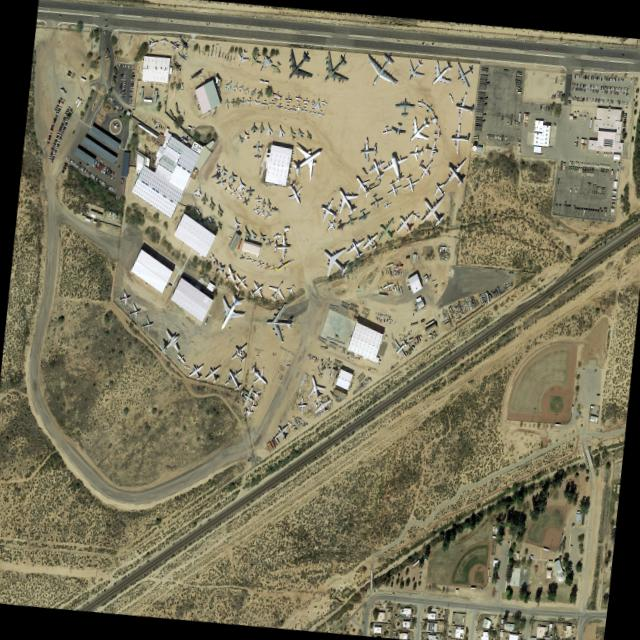large-vehicle: (447, 91, 452, 102), (179, 136, 186, 142), (508, 112, 511, 125), (59, 87, 65, 93), (75, 99, 80, 106), (319, 344, 327, 348), (74, 97, 78, 103), (79, 76, 84, 80), (66, 69, 70, 73), (65, 72, 69, 76), (485, 133, 487, 137), (494, 134, 496, 138), (496, 134, 498, 138), (498, 135, 500, 139), (487, 133, 488, 137)
plane: (355, 43, 405, 98), (283, 131, 329, 188), (311, 42, 355, 95), (275, 39, 319, 91), (410, 186, 452, 235), (313, 236, 354, 284), (210, 288, 248, 337), (435, 149, 473, 196), (327, 178, 363, 220), (423, 52, 458, 94), (400, 109, 435, 151), (152, 322, 186, 365), (378, 148, 412, 188), (264, 301, 292, 342), (449, 53, 478, 92), (399, 52, 429, 88), (390, 204, 419, 240), (371, 214, 400, 249), (219, 360, 247, 395), (348, 167, 376, 202), (302, 371, 327, 406), (263, 273, 289, 306), (450, 91, 475, 125), (245, 359, 272, 390), (341, 231, 367, 262), (364, 154, 389, 185), (282, 177, 307, 208), (314, 194, 339, 225), (226, 337, 251, 367), (447, 122, 470, 153), (357, 227, 381, 256), (387, 333, 411, 361), (412, 154, 435, 183), (199, 360, 224, 386), (234, 381, 256, 410), (427, 175, 450, 202), (357, 135, 376, 165), (311, 393, 333, 418), (270, 419, 291, 445), (229, 268, 250, 294), (246, 275, 266, 302), (184, 358, 205, 383), (400, 171, 421, 195), (272, 233, 291, 259), (421, 136, 440, 161), (220, 260, 238, 286), (392, 96, 414, 117), (255, 49, 274, 73), (244, 48, 263, 71), (383, 177, 402, 200), (272, 254, 290, 274), (232, 46, 249, 67), (126, 299, 140, 323), (139, 313, 153, 336), (116, 286, 130, 309), (367, 191, 383, 211), (388, 119, 406, 136), (267, 58, 283, 77), (322, 215, 337, 234), (165, 35, 180, 53), (355, 204, 370, 222), (342, 210, 357, 227), (233, 173, 246, 192), (407, 144, 422, 160), (211, 259, 225, 276), (248, 385, 262, 401), (268, 87, 282, 103), (421, 99, 435, 115), (284, 279, 297, 296), (260, 205, 273, 222), (380, 279, 394, 294), (240, 222, 251, 241), (427, 109, 438, 128), (173, 349, 186, 365), (145, 34, 158, 50), (296, 395, 307, 413), (255, 227, 267, 243), (285, 124, 296, 141), (230, 214, 241, 231), (220, 179, 233, 193), (241, 403, 253, 417), (222, 76, 233, 91), (226, 169, 237, 184), (275, 122, 285, 138), (409, 208, 420, 222), (239, 127, 250, 141), (415, 95, 426, 109), (334, 217, 345, 231), (247, 397, 257, 412), (213, 202, 223, 217), (192, 182, 202, 197), (247, 226, 257, 241), (263, 119, 272, 135), (206, 195, 215, 211), (208, 169, 220, 181), (432, 125, 441, 141), (251, 139, 261, 153), (294, 125, 304, 139), (213, 176, 225, 187), (380, 124, 391, 136), (254, 85, 264, 98), (190, 204, 200, 217), (212, 219, 222, 232), (218, 163, 228, 176), (312, 97, 321, 111), (262, 236, 273, 247), (204, 214, 214, 226), (199, 189, 207, 204), (233, 189, 243, 201), (381, 197, 391, 209), (239, 194, 249, 206), (254, 205, 264, 217), (303, 127, 312, 140), (270, 231, 281, 241), (254, 258, 264, 269), (206, 249, 215, 261), (251, 95, 260, 107), (248, 85, 257, 97), (315, 107, 324, 119), (235, 132, 244, 144), (212, 161, 221, 173), (250, 202, 259, 214), (256, 120, 264, 133), (231, 79, 239, 92), (298, 104, 307, 115), (244, 94, 253, 105), (235, 82, 244, 93), (227, 185, 236, 196), (244, 185, 253, 196), (293, 93, 302, 103), (241, 84, 250, 94), (269, 204, 279, 213), (307, 106, 315, 117), (301, 95, 309, 106), (283, 93, 291, 104), (253, 192, 261, 203), (264, 197, 271, 209), (110, 120, 119, 129), (281, 103, 290, 112), (267, 97, 275, 107), (237, 96, 245, 106), (268, 262, 276, 272), (211, 255, 218, 266), (181, 362, 189, 371), (288, 104, 296, 113), (274, 101, 282, 110), (259, 99, 267, 108), (158, 37, 167, 45), (262, 261, 270, 270), (249, 122, 256, 132), (223, 97, 229, 108), (259, 196, 265, 207), (319, 97, 326, 106), (286, 256, 293, 265), (294, 103, 300, 113), (229, 97, 235, 107), (252, 152, 260, 159), (309, 96, 315, 105), (237, 252, 244, 259), (249, 256, 255, 264), (226, 232, 232, 239), (244, 255, 251, 261)
small-vehicle: (68, 108, 72, 112), (61, 165, 65, 169), (55, 131, 59, 135), (54, 110, 58, 114), (110, 98, 113, 103), (108, 96, 111, 101), (380, 317, 383, 322), (94, 175, 97, 180), (85, 169, 88, 174), (75, 162, 78, 167), (111, 170, 114, 175), (93, 158, 96, 163), (116, 163, 119, 168), (555, 89, 558, 93), (60, 120, 63, 124), (117, 88, 121, 91), (118, 81, 122, 84), (69, 106, 72, 110), (62, 124, 65, 128), (61, 127, 64, 131), (58, 124, 61, 128), (113, 71, 116, 75), (118, 105, 121, 109), (120, 107, 123, 111), (119, 105, 122, 109), (113, 100, 116, 104), (107, 95, 110, 99), (392, 320, 395, 324), (500, 114, 502, 120), (308, 354, 311, 358), (313, 356, 316, 360), (100, 180, 103, 184), (99, 179, 102, 183), (91, 174, 94, 178), (90, 173, 93, 177), (86, 170, 89, 174), (104, 183, 107, 187), (109, 186, 112, 190), (108, 185, 111, 189), (67, 157, 70, 161), (76, 164, 79, 168), (72, 161, 75, 165), (71, 160, 74, 164), (70, 159, 73, 163), (64, 155, 67, 159), (62, 161, 66, 164), (60, 168, 64, 171), (59, 170, 63, 173), (45, 140, 49, 143), (49, 124, 52, 128), (57, 137, 60, 141), (52, 116, 55, 120), (54, 144, 58, 147), (97, 161, 100, 165), (98, 162, 101, 166), (102, 165, 105, 169), (105, 166, 108, 170), (113, 160, 116, 164), (111, 175, 114, 179), (50, 145, 53, 149), (594, 83, 596, 88), (580, 96, 582, 101), (617, 99, 619, 104), (615, 98, 617, 103), (378, 312, 380, 317), (375, 315, 377, 320), (326, 356, 328, 361), (102, 180, 104, 185), (559, 97, 562, 100), (121, 79, 124, 82), (121, 81, 124, 84), (121, 83, 124, 86), (121, 86, 124, 89), (121, 88, 124, 91), (121, 92, 124, 95), (117, 92, 120, 95), (118, 85, 121, 88), (118, 83, 121, 86), (118, 79, 121, 82), (119, 77, 122, 80), (119, 74, 122, 77), (118, 114, 121, 117), (119, 72, 122, 75), (60, 100, 63, 103), (61, 98, 64, 101), (67, 111, 70, 114), (64, 119, 67, 122), (63, 123, 66, 126), (57, 98, 60, 101), (60, 129, 63, 132), (59, 131, 62, 134), (57, 127, 60, 130), (56, 99, 59, 102), (58, 96, 61, 99), (155, 126, 158, 129), (191, 125, 194, 128), (153, 124, 156, 127), (149, 117, 152, 120), (570, 625, 573, 628), (59, 123, 62, 126), (61, 117, 64, 120), (85, 162, 88, 165), (99, 168, 102, 171), (98, 167, 101, 170), (111, 187, 114, 190), (80, 166, 83, 169), (62, 164, 65, 167), (56, 129, 59, 132), (55, 133, 58, 136), (58, 135, 61, 138), (48, 131, 51, 134), (47, 133, 50, 136), (54, 135, 57, 138), (53, 137, 56, 140), (52, 141, 55, 144), (56, 140, 59, 143), (55, 142, 58, 145), (49, 127, 52, 130), (50, 123, 53, 126), (51, 144, 54, 147), (53, 107, 56, 110), (63, 111, 66, 114), (64, 109, 67, 112), (58, 105, 61, 108), (51, 121, 54, 124), (57, 106, 60, 109), (54, 113, 57, 116), (54, 115, 57, 118), (51, 118, 54, 121), (54, 146, 57, 149), (106, 167, 109, 170), (109, 175, 112, 178), (53, 148, 56, 151), (52, 150, 55, 153), (49, 150, 52, 153), (52, 152, 55, 155), (48, 153, 51, 156), (47, 157, 50, 160), (49, 158, 52, 161), (49, 160, 52, 163), (620, 86, 622, 90), (623, 86, 625, 90), (625, 87, 627, 91), (573, 73, 575, 77), (576, 73, 578, 77), (583, 74, 585, 78), (586, 74, 588, 78), (617, 85, 619, 89), (597, 84, 599, 88), (591, 83, 593, 87), (599, 84, 601, 88), (611, 85, 613, 89), (604, 75, 606, 79), (610, 76, 612, 80), (621, 77, 623, 81), (570, 54, 572, 58), (578, 82, 580, 86), (575, 82, 577, 86), (600, 98, 602, 102), (590, 97, 592, 101), (578, 96, 580, 100), (577, 96, 579, 100), (566, 101, 570, 103), (576, 96, 578, 100), (601, 98, 603, 102), (608, 98, 610, 102), (621, 127, 625, 129), (621, 124, 625, 126), (621, 120, 625, 122), (610, 98, 612, 102), (623, 106, 627, 108), (625, 100, 627, 104), (622, 100, 624, 104), (620, 99, 622, 103), (574, 96, 576, 100), (571, 95, 573, 99), (601, 88, 603, 92), (609, 89, 611, 93), (618, 90, 620, 94), (570, 85, 572, 89), (571, 81, 573, 85), (591, 87, 593, 91), (550, 94, 552, 98), (555, 94, 557, 98), (557, 93, 559, 97), (576, 86, 578, 90), (579, 86, 581, 90), (582, 87, 584, 91), (585, 87, 587, 91), (127, 94, 131, 96), (130, 68, 134, 70), (113, 73, 115, 77), (117, 63, 119, 67), (118, 63, 120, 67), (126, 63, 128, 67), (117, 104, 119, 108), (80, 99, 82, 103), (116, 103, 118, 107), (71, 129, 73, 133), (373, 312, 375, 316), (387, 317, 389, 321), (383, 314, 385, 318), (379, 313, 381, 317), (376, 311, 378, 315), (388, 318, 390, 322), (559, 93, 561, 97), (561, 92, 563, 96), (382, 317, 384, 321), (56, 14, 60, 16), (378, 317, 380, 321), (385, 317, 387, 321), (307, 353, 309, 357), (306, 352, 308, 356), (148, 85, 152, 87), (160, 125, 162, 129), (156, 121, 158, 125), (284, 364, 288, 366), (543, 119, 545, 123), (595, 392, 599, 394), (543, 48, 547, 50), (312, 355, 314, 359), (320, 357, 322, 361), (315, 357, 317, 361), (98, 178, 100, 182), (97, 177, 99, 181), (96, 176, 98, 180), (93, 175, 95, 179), (88, 171, 90, 175), (84, 169, 86, 173), (102, 169, 104, 173), (97, 166, 99, 170), (106, 184, 108, 188), (92, 162, 94, 166), (98, 158, 102, 160), (107, 184, 109, 188), (82, 166, 84, 170), (79, 165, 81, 169), (474, 629, 476, 633), (78, 164, 80, 168), (74, 162, 76, 166), (69, 158, 71, 162), (66, 156, 68, 160), (396, 615, 400, 617), (376, 604, 380, 606), (105, 170, 107, 174), (106, 171, 108, 175), (46, 136, 50, 138), (109, 174, 111, 178), (104, 165, 106, 169), (95, 159, 97, 163), (100, 163, 102, 167), (101, 164, 103, 168), (108, 168, 110, 172), (109, 169, 111, 173), (110, 170, 112, 174), (589, 75, 591, 78), (592, 75, 594, 78), (614, 86, 616, 89), (584, 83, 586, 86), (606, 85, 608, 88), (607, 76, 609, 79), (609, 77, 611, 80), (616, 77, 618, 80), (598, 47, 601, 49), (629, 78, 631, 81), (598, 98, 600, 101), (595, 98, 597, 101), (605, 99, 607, 102), (567, 99, 570, 101), (622, 115, 625, 117), (622, 129, 625, 131), (622, 122, 625, 124), (622, 118, 625, 120), (623, 112, 626, 114), (612, 90, 614, 93), (603, 89, 605, 92), (572, 86, 574, 89), (558, 90, 561, 92), (588, 88, 590, 91), (121, 90, 123, 93), (120, 95, 123, 97), (118, 90, 121, 92), (122, 77, 125, 79), (122, 75, 125, 77), (127, 102, 130, 104), (128, 98, 131, 100), (128, 96, 131, 98), (129, 87, 132, 89), (129, 85, 132, 87), (129, 83, 132, 85), (130, 72, 133, 74), (112, 78, 114, 81), (64, 120, 66, 123), (65, 117, 68, 119), (59, 133, 61, 136), (123, 63, 125, 66), (112, 100, 114, 103), (386, 314, 388, 317), (381, 314, 383, 317), (568, 564, 570, 567), (569, 543, 571, 546), (407, 634, 409, 637), (374, 315, 376, 318), (377, 317, 379, 320), (159, 124, 161, 127), (157, 123, 159, 126), (154, 121, 156, 124), (153, 120, 155, 123), (152, 118, 154, 121), (310, 355, 312, 358), (571, 636, 574, 638), (620, 53, 623, 55), (61, 119, 63, 122), (89, 172, 91, 175), (78, 160, 80, 163), (83, 168, 85, 171), (103, 182, 105, 185), (95, 164, 97, 167), (104, 170, 106, 173), (101, 169, 103, 172), (96, 165, 98, 168), (91, 162, 93, 165), (536, 623, 539, 625), (408, 603, 411, 605), (546, 623, 549, 625), (403, 615, 406, 617), (400, 615, 403, 617), (107, 173, 109, 176), (46, 138, 49, 140), (62, 116, 65, 118), (65, 107, 68, 109), (67, 105, 69, 108), (55, 103, 58, 105), (54, 105, 56, 108), (55, 109, 58, 111), (96, 161, 98, 164), (49, 149, 52, 151), (51, 154, 54, 156), (120, 174, 123, 176), (50, 156, 53, 158), (120, 180, 123, 182), (120, 178, 123, 180), (120, 176, 123, 178), (591, 74, 592, 79), (578, 86, 579, 91), (419, 620, 420, 625), (622, 86, 623, 90), (575, 73, 576, 77), (578, 73, 579, 77), (579, 73, 580, 77), (582, 74, 583, 78), (585, 74, 586, 78), (589, 83, 590, 87), (590, 83, 591, 87), (613, 85, 614, 89), (602, 84, 603, 88), (604, 84, 605, 88), (605, 84, 606, 88), (610, 85, 611, 89), (596, 75, 597, 79), (614, 76, 615, 80), (612, 77, 613, 81), (620, 77, 621, 81), (580, 82, 581, 86), (585, 96, 586, 100), (597, 97, 598, 101), (594, 96, 595, 100), (582, 96, 583, 100), (573, 95, 574, 99), (559, 634, 560, 638), (574, 82, 575, 86), (599, 88, 600, 92), (611, 90, 612, 94), (616, 90, 617, 94), (622, 90, 623, 94), (573, 81, 574, 85), (596, 88, 597, 92), (570, 95, 571, 99), (554, 79, 555, 83), (575, 86, 576, 90), (123, 73, 125, 75), (128, 100, 130, 102), (127, 93, 131, 94), (129, 78, 133, 79), (122, 63, 123, 67), (391, 592, 393, 594), (94, 163, 95, 167), (414, 609, 415, 613), (520, 638, 522, 640), (53, 140, 55, 142), (48, 155, 50, 157), (619, 86, 620, 89), (616, 86, 617, 89), (582, 83, 583, 86), (583, 83, 584, 86), (608, 85, 609, 88), (594, 75, 595, 78), (597, 75, 598, 78), (600, 76, 601, 79), (603, 76, 604, 79), (606, 76, 607, 79), (588, 97, 589, 100), (623, 114, 626, 115), (597, 89, 598, 92), (605, 89, 606, 92), (614, 90, 615, 93), (594, 88, 595, 91), (625, 91, 626, 94), (574, 86, 575, 89), (581, 87, 582, 90), (495, 577, 498, 578), (128, 91, 131, 92), (129, 82, 132, 83), (130, 74, 133, 75), (404, 629, 407, 630), (103, 19, 106, 20), (580, 368, 583, 369), (409, 616, 412, 617), (429, 605, 432, 606), (119, 182, 122, 183), (559, 83, 561, 84), (130, 80, 132, 81), (406, 616, 408, 617)
